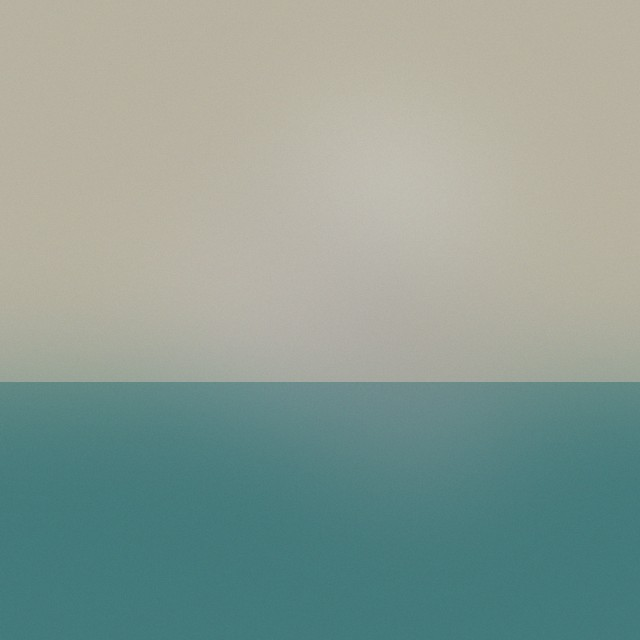smoke: (199, 158, 449, 408)
